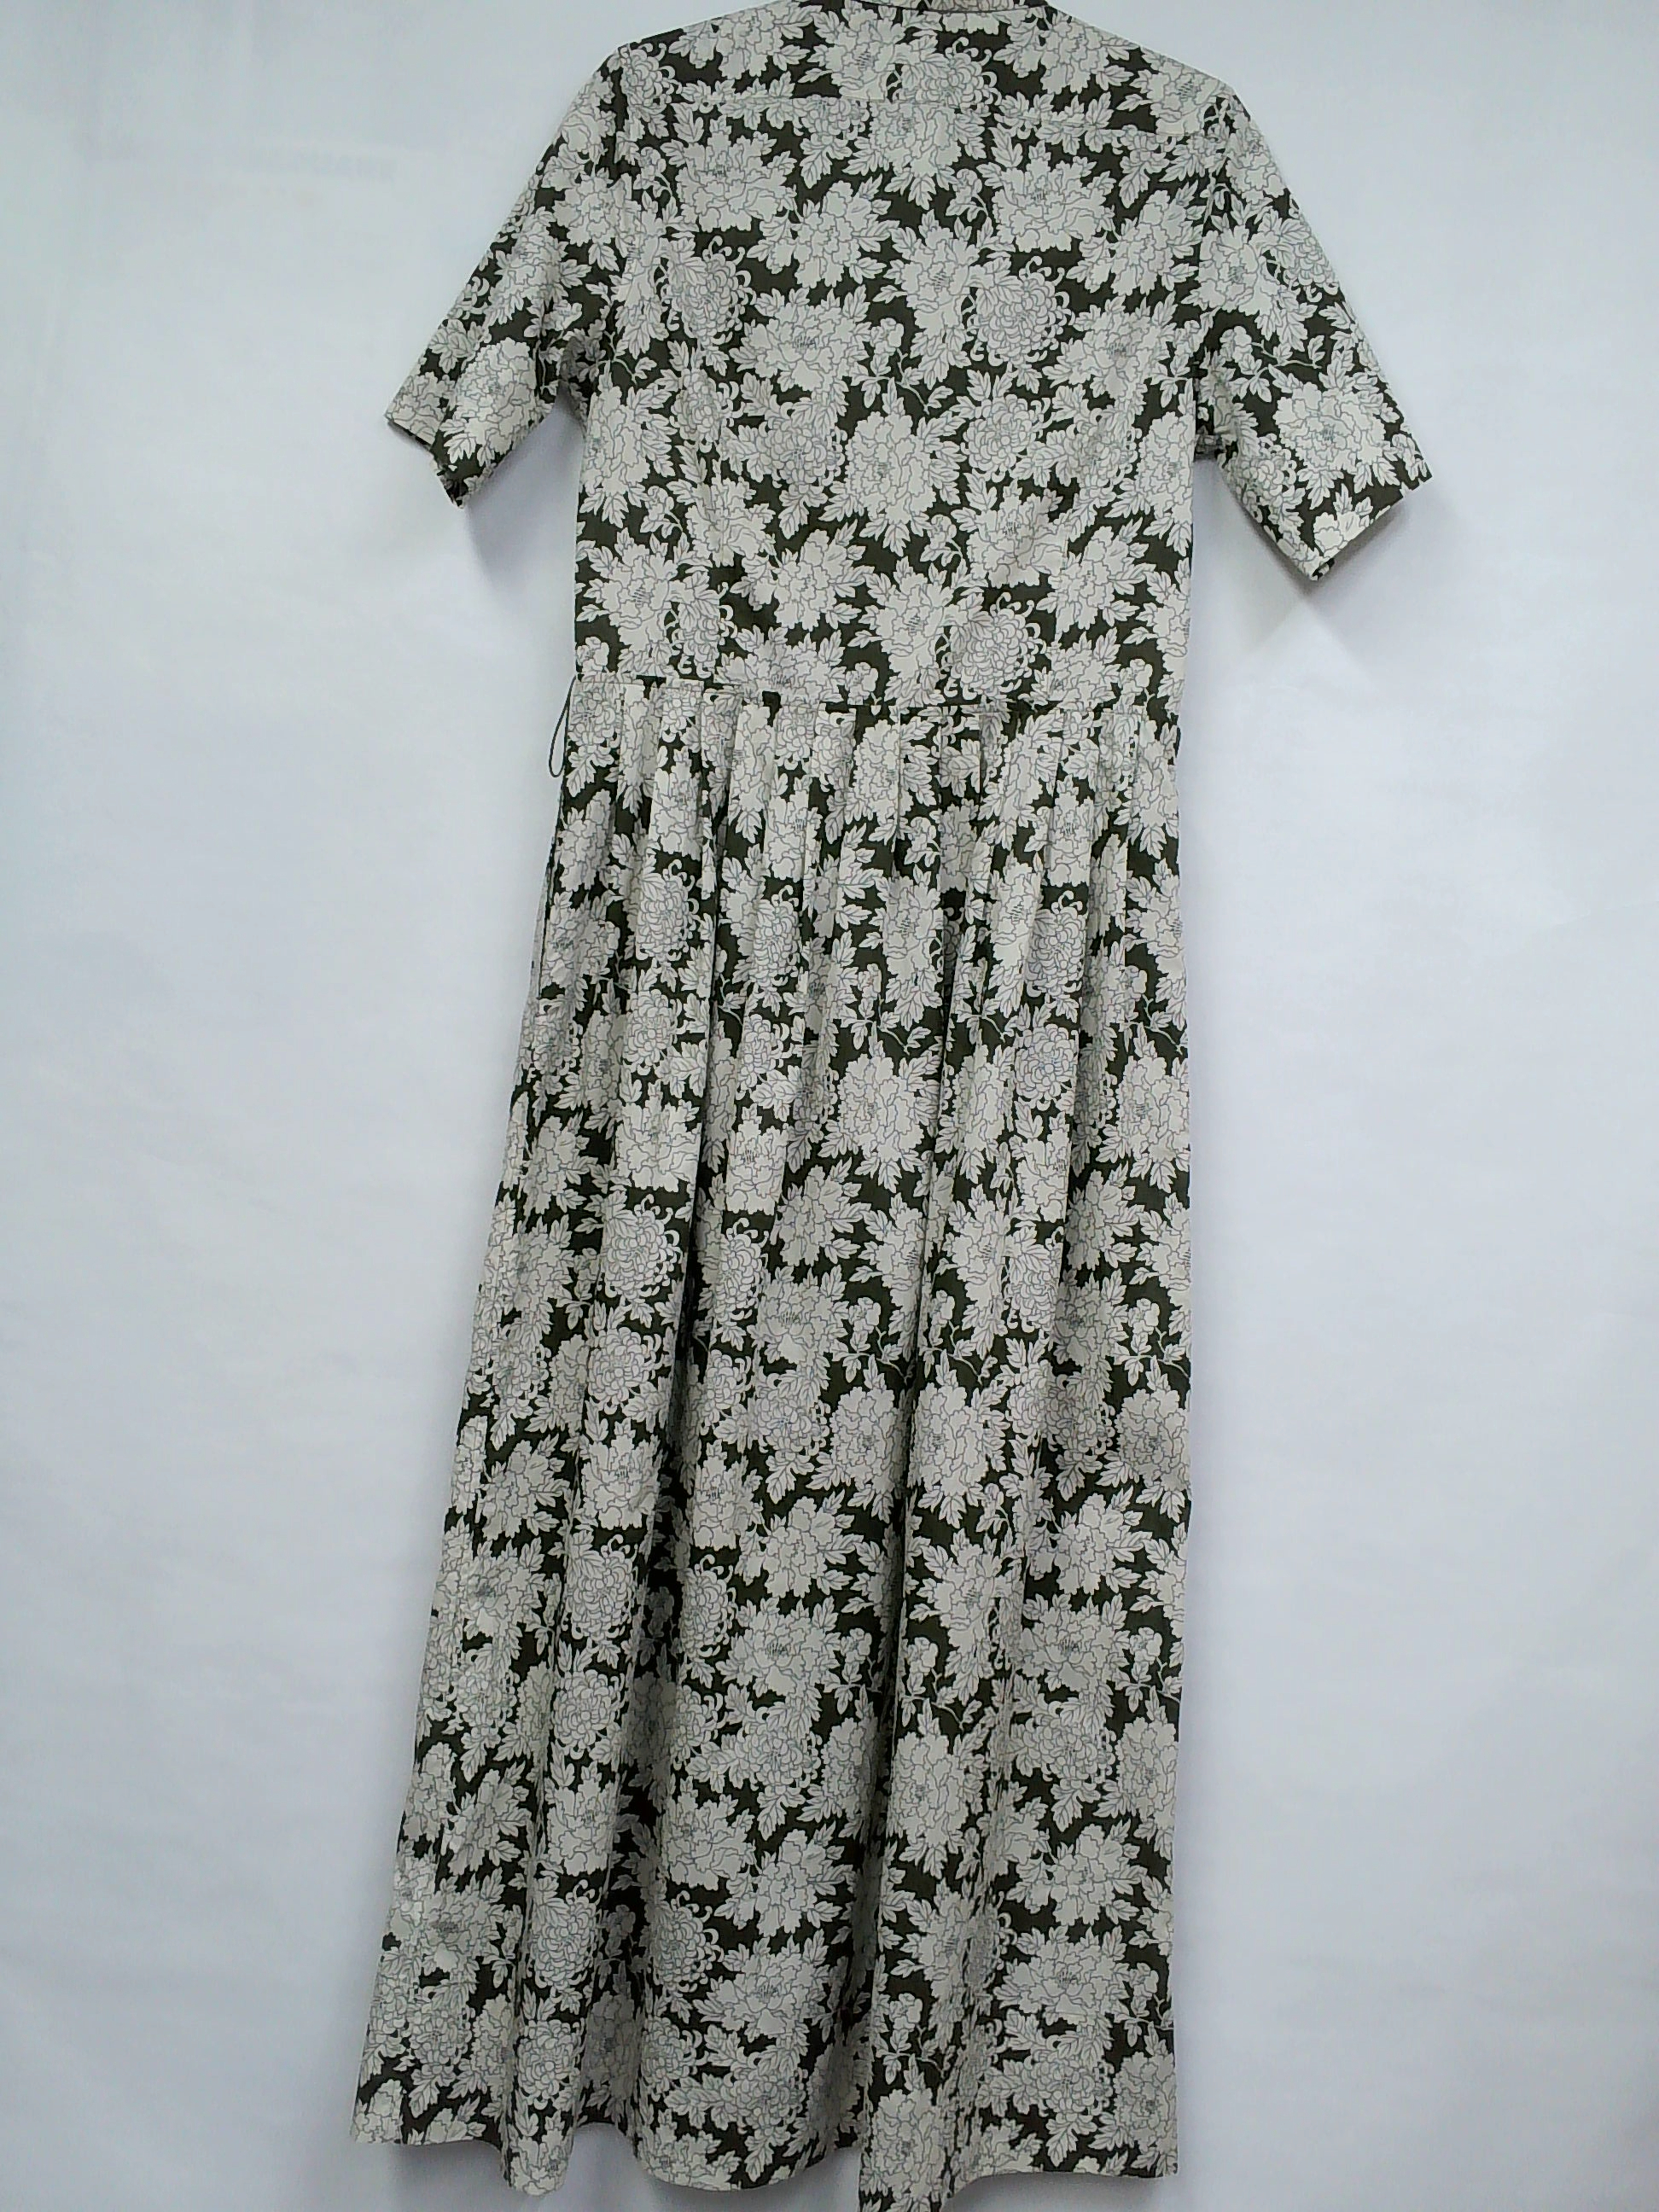bad_fabric: (558, 662, 1192, 707)
